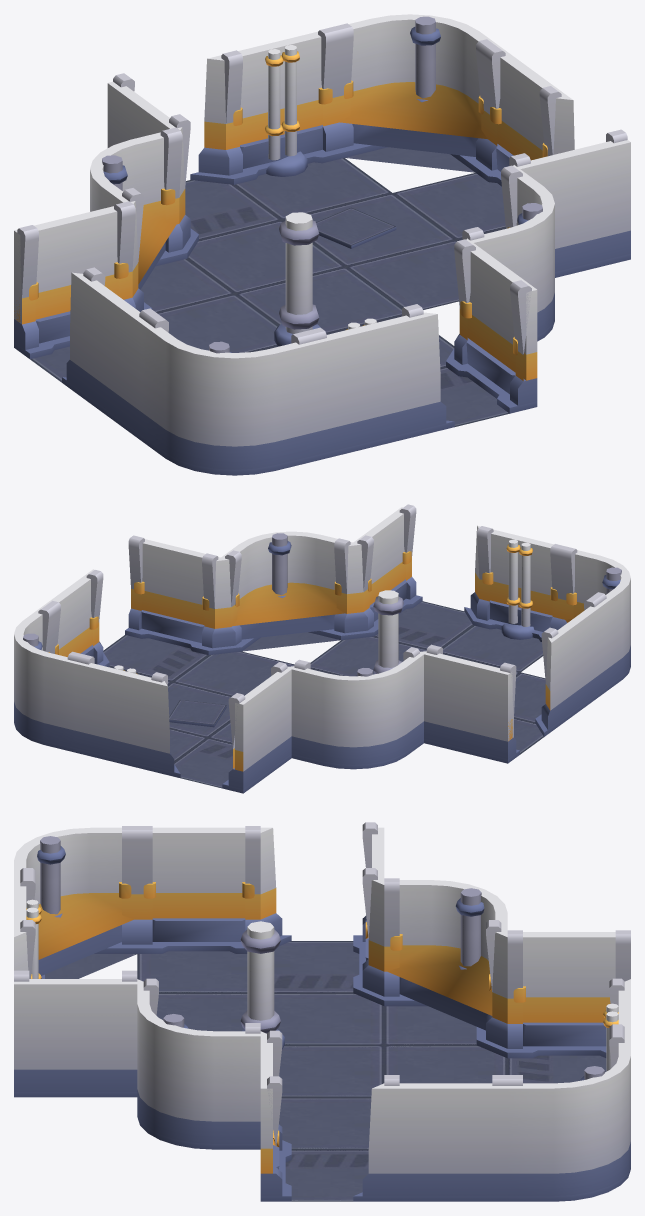
File: kenney-space-modular-room-large-variation.glb
The picture shows the model from 3 angles, top to bottom: view 1: azimuth 30°, elevation 25°; view 2: azimuth 150°, elevation 25°; view 3: azimuth 270°, elevation 25°; orthographic projection. The views are drawn at different scales.
Visible parts, largest first — view 1: room-large-variation; view 2: room-large-variation; view 3: room-large-variation.
Boxes of the visible parts, box(x1,y1,x2,y2) form: room-large-variation: box(14, 14, 630, 475); room-large-variation: box(14, 504, 630, 793); room-large-variation: box(14, 822, 630, 1201).
Bounding box in the file's own units: 20 × 4.25 × 20.
Materials: 1 (1 with a texture image).
